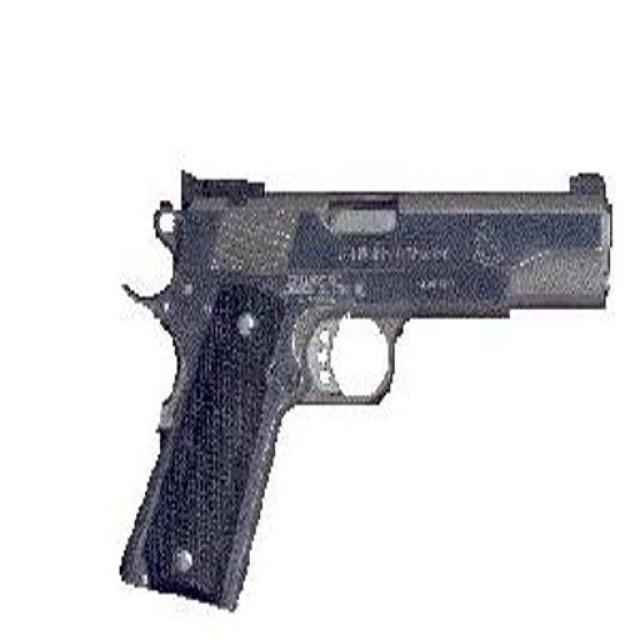pistol: (109, 170, 610, 602)
